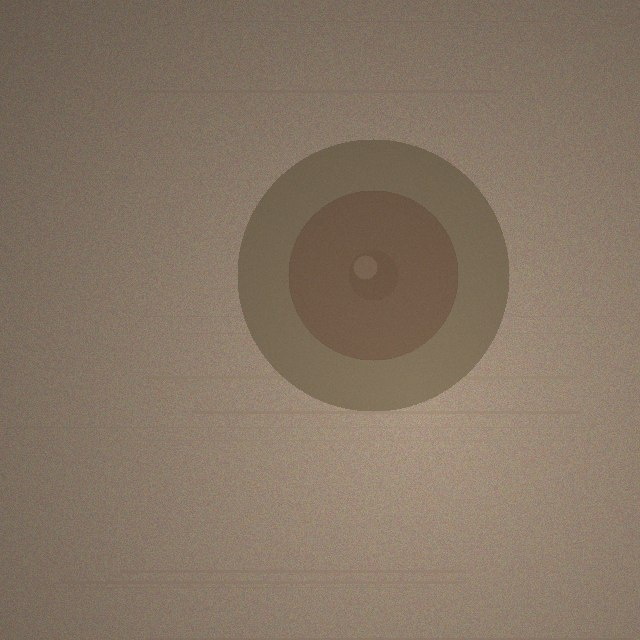good: (237, 139, 509, 411)
